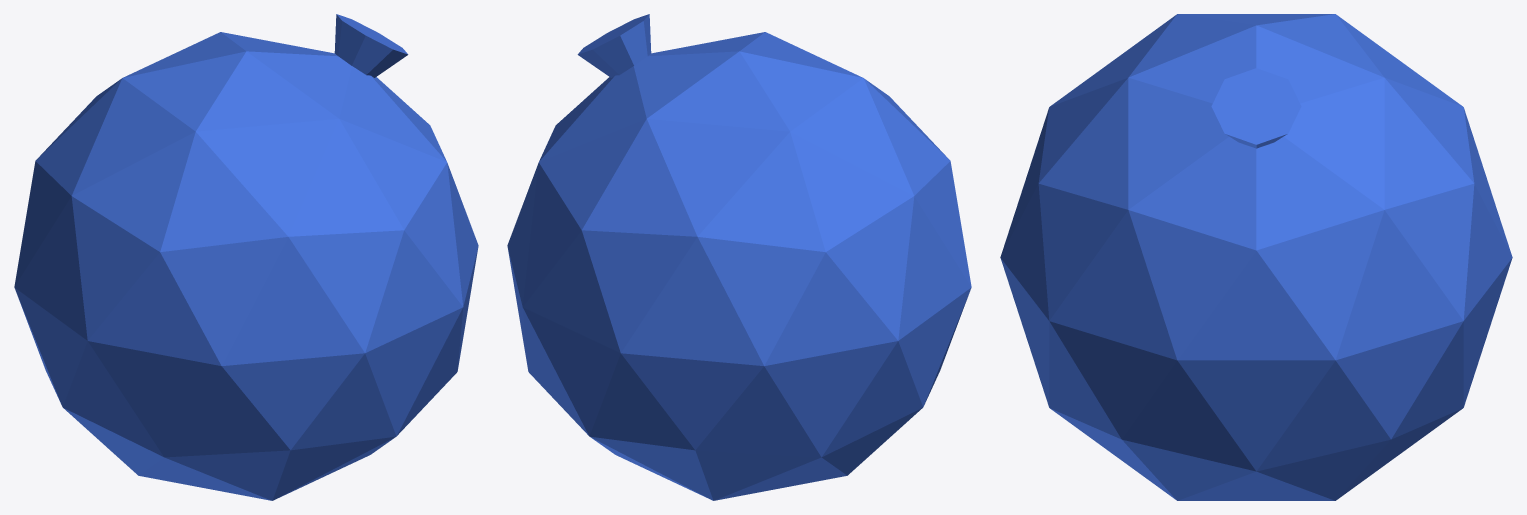
File: Ballon.fbx
3 views of the same model, side by side, from view 1: azimuth 30°, elevation 25°; view 2: azimuth 150°, elevation 25°; view 3: azimuth 270°, elevation 25° (orthographic). The views are drawn at different scales.
Parts seen in each view (by area): view 1: Ballon, Cone; view 2: Ballon, Cone; view 3: Ballon, Cone.
Part boxes in pixels (x1=…): Ballon: x1=14, y1=32, x2=478, y2=500; Cone: x1=334, y1=14, x2=408, y2=77; Ballon: x1=507, y1=32, x2=971, y2=500; Cone: x1=577, y1=14, x2=651, y2=77; Ballon: x1=1000, y1=14, x2=1512, y2=500; Cone: x1=1211, y1=68, x2=1301, y2=148.
Size of the model in its own units: 1.3 by 1.39 by 1.37.
